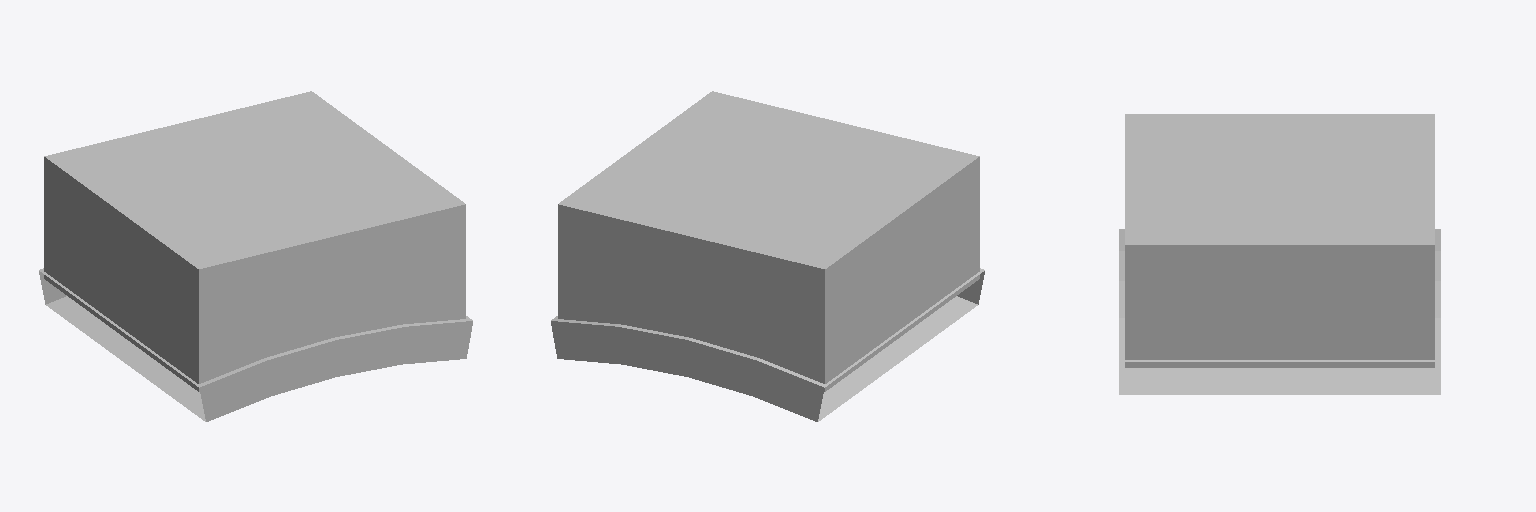
File: sandstone_five_arch_center.obj
3 renders of one model, left to right at view 1: azimuth 30°, elevation 25°; view 2: azimuth 150°, elevation 25°; view 3: azimuth 270°, elevation 25°, orthographic.
Parts seen in each view (by area): view 1: Arch_Center_Cube.008; view 2: Arch_Center_Cube.008; view 3: Arch_Center_Cube.008.
Boxes of the visible parts, <box> form: Arch_Center_Cube.008: <box>39,91,472,421</box>; Arch_Center_Cube.008: <box>551,91,984,421</box>; Arch_Center_Cube.008: <box>1119,114,1440,394</box>.
Size of the model in its own units: 1.02 by 0.5418 by 1.04.